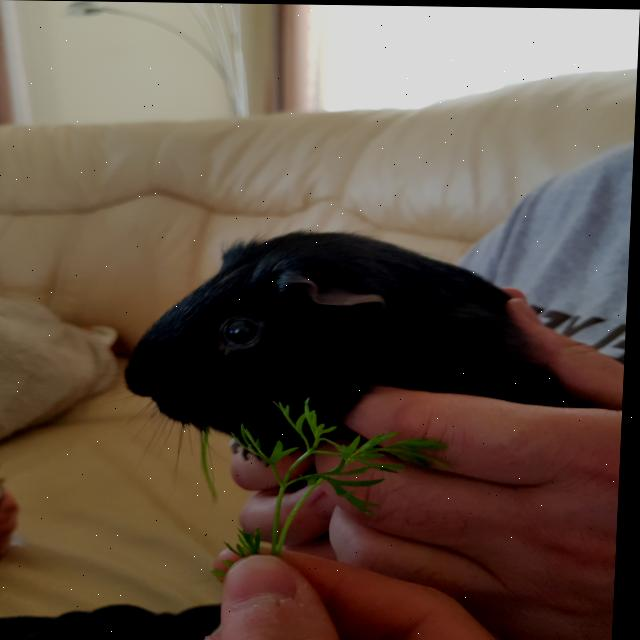guinea pig: (124, 223, 597, 471)
